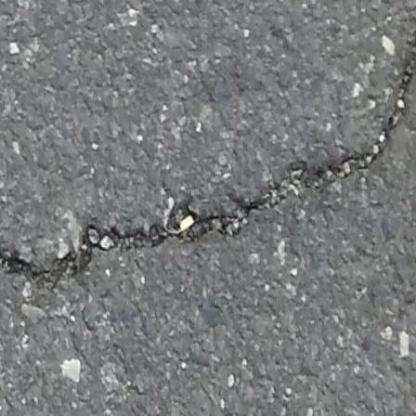Cracks: (0, 26, 416, 314)
